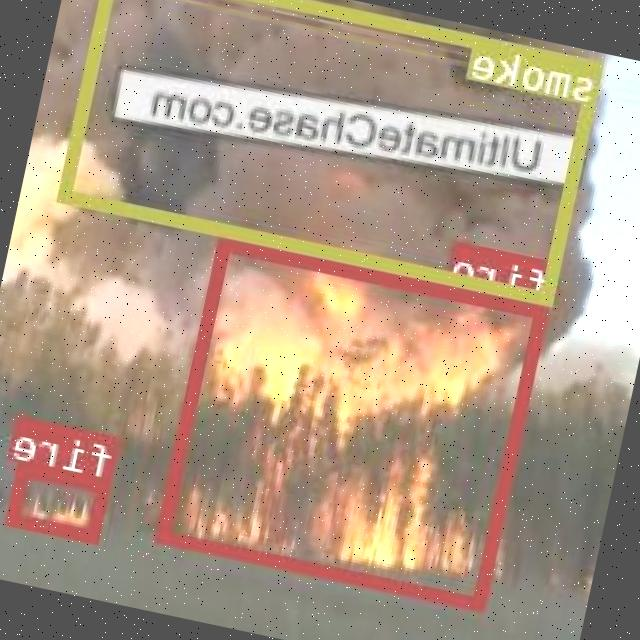fire: (158, 238, 551, 610), (10, 462, 114, 540)
smoke: (60, 0, 605, 304)
